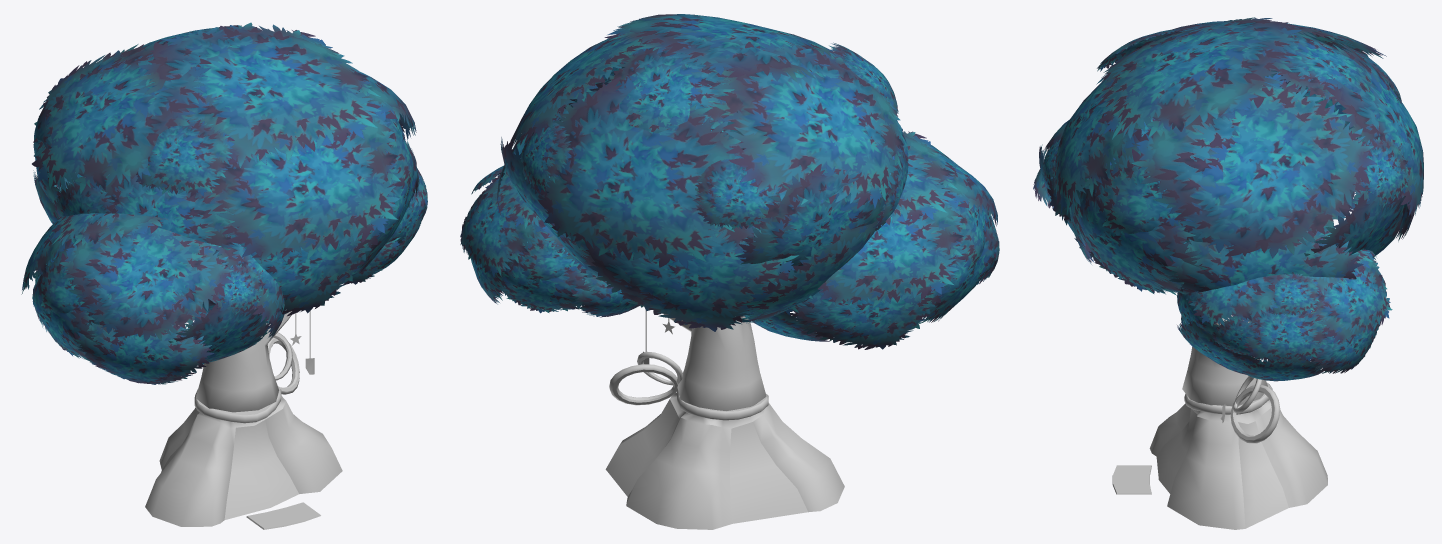
The model's file is SM_Enviro_TanukiHome_Light.fbx.
3 views of the same model, side by side, from view 1: azimuth 30°, elevation 25°; view 2: azimuth 150°, elevation 25°; view 3: azimuth 270°, elevation 25° (orthographic). The views are drawn at different scales.
Parts seen in each view (by area): view 1: SM_Enviro_TanukiHome_Leaves, SM_Enviro_TanukiHome_Wood, SM_Enviro_TanukiHome_FloorMat, SM_Enviro_TanukiHome_Belt, SM_Enviro_TanukiHome_BeltLoop; view 2: SM_Enviro_TanukiHome_Leaves, SM_Enviro_TanukiHome_Wood, SM_Enviro_TanukiHome_BeltLoop, SM_Enviro_TanukiHome_Belt; view 3: SM_Enviro_TanukiHome_Leaves, SM_Enviro_TanukiHome_Wood, SM_Enviro_TanukiHome_FloorMat, SM_Enviro_TanukiHome_BeltLoop, SM_Enviro_TanukiHome_Belt.
Boxes of the visible parts, <box> form: SM_Enviro_TanukiHome_Leaves: <box>21,22,427,384</box>; SM_Enviro_TanukiHome_Wood: <box>145,309,342,526</box>; SM_Enviro_TanukiHome_FloorMat: <box>246,502,320,529</box>; SM_Enviro_TanukiHome_Belt: <box>194,388,281,423</box>; SM_Enviro_TanukiHome_BeltLoop: <box>267,337,299,394</box>; SM_Enviro_TanukiHome_Leaves: <box>460,14,999,349</box>; SM_Enviro_TanukiHome_Wood: <box>605,313,844,529</box>; SM_Enviro_TanukiHome_BeltLoop: <box>609,364,678,405</box>; SM_Enviro_TanukiHome_Belt: <box>677,389,768,420</box>; SM_Enviro_TanukiHome_Leaves: <box>1033,17,1423,381</box>; SM_Enviro_TanukiHome_Wood: <box>1149,315,1327,529</box>; SM_Enviro_TanukiHome_FloorMat: <box>1112,465,1151,494</box>; SM_Enviro_TanukiHome_BeltLoop: <box>1230,384,1280,443</box>; SM_Enviro_TanukiHome_Belt: <box>1184,382,1272,414</box>.
Size of the model in its own units: 474 by 449 by 370.
